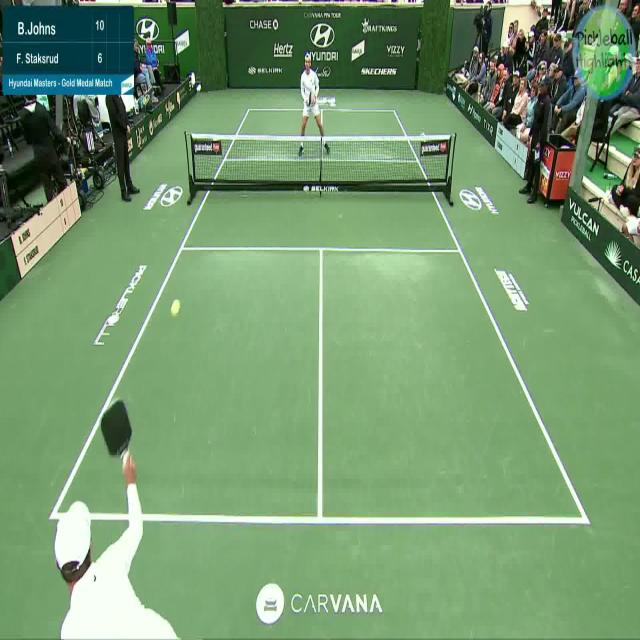Court: (51, 110, 587, 521)
ball: (169, 299, 182, 321)
